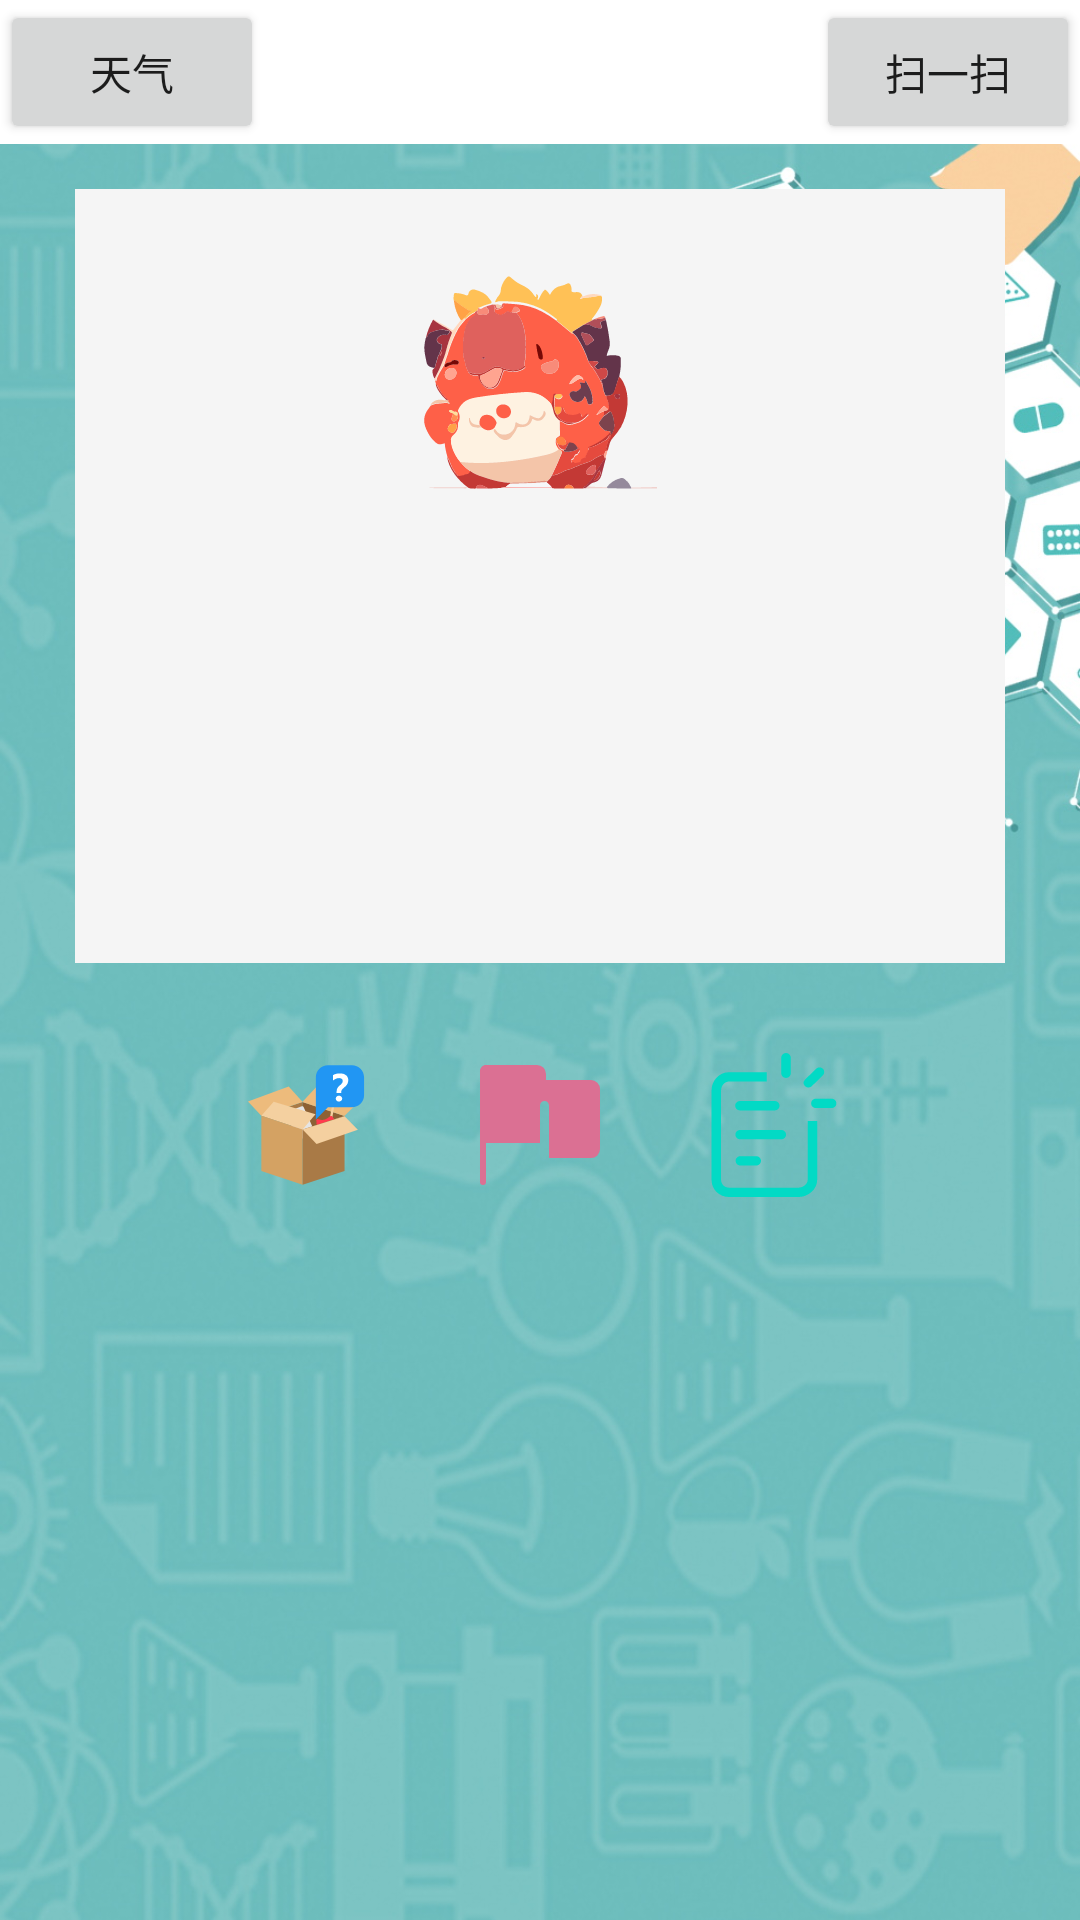

Named icons in this screenshot (1080w x 1920h) and their bounding boxes, (x1, y1, x2, y2):
add mess: (711, 1053, 836, 1197)
